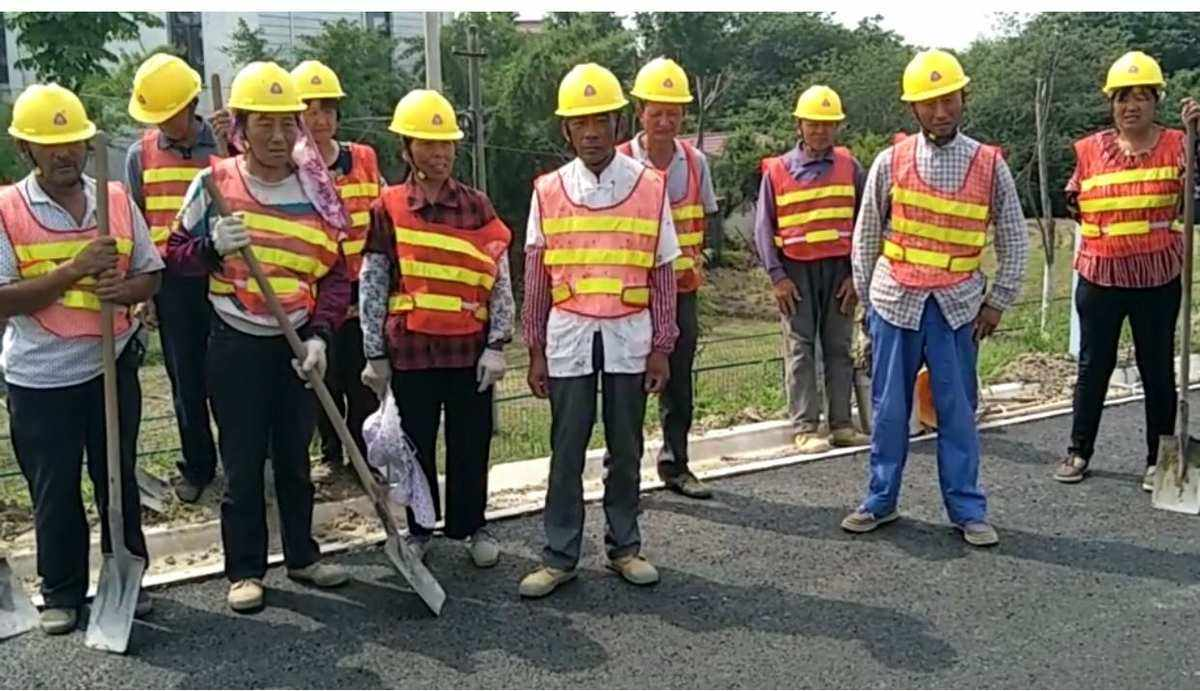person: (165, 58, 353, 613), (838, 45, 1032, 550), (1, 80, 164, 636), (515, 60, 682, 598), (357, 87, 518, 571), (1050, 51, 1200, 491), (119, 49, 227, 503), (616, 52, 714, 498), (752, 81, 867, 454), (289, 55, 386, 484)
reflective_vest: (1, 174, 138, 343), (206, 151, 342, 320), (528, 159, 667, 320), (880, 131, 1007, 296), (378, 179, 510, 336), (1071, 126, 1191, 259), (618, 138, 709, 294), (759, 143, 858, 262), (139, 127, 210, 254), (333, 140, 380, 282)
safety_helmet: (7, 79, 102, 188), (226, 57, 310, 170), (553, 59, 630, 166), (125, 49, 206, 143), (388, 87, 466, 182), (899, 45, 970, 143), (630, 52, 694, 146), (1100, 50, 1168, 133), (289, 58, 347, 140), (790, 81, 847, 152)
